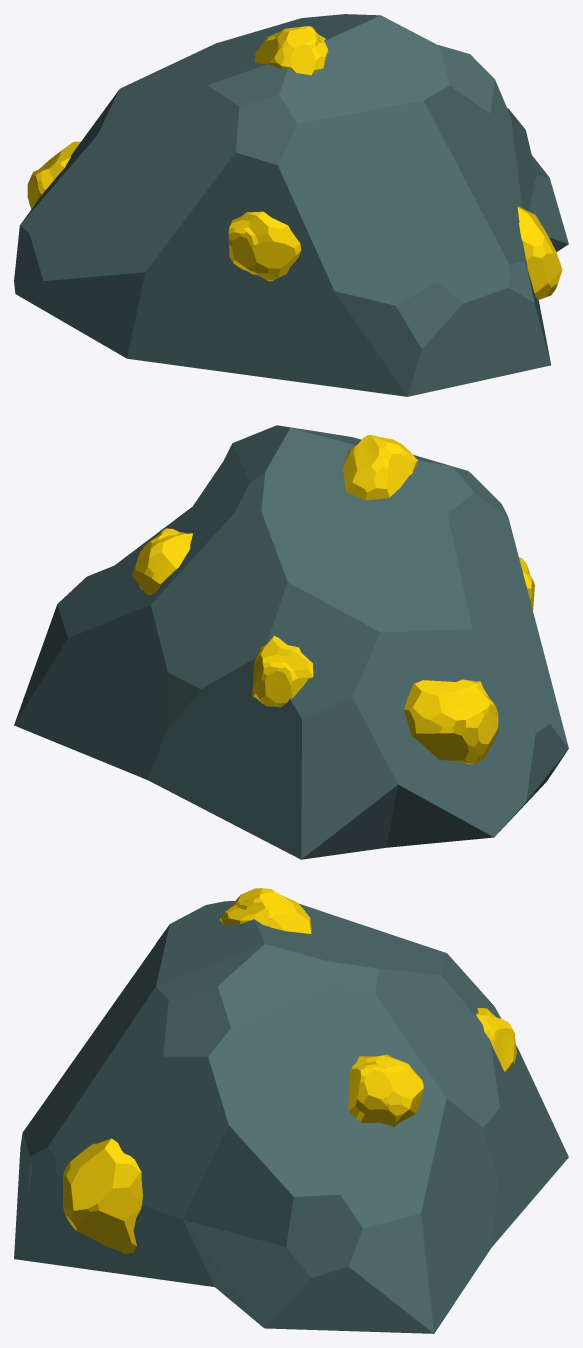
File: Gold4.fbx
3 renders of one model, top to bottom at view 1: azimuth 30°, elevation 25°; view 2: azimuth 150°, elevation 25°; view 3: azimuth 270°, elevation 25°, orthographic. The views are drawn at different scales.
Visible parts, largest first — view 1: Rock3, Nodes.003; view 2: Rock3, Nodes.003; view 3: Rock3, Nodes.003.
Boxes of the visible parts, bbox=[...] form: Rock3: bbox=[14, 14, 568, 396]; Nodes.003: bbox=[27, 26, 562, 299]; Rock3: bbox=[14, 425, 568, 859]; Nodes.003: bbox=[132, 435, 534, 764]; Rock3: bbox=[14, 901, 568, 1333]; Nodes.003: bbox=[63, 888, 516, 1253].
Size of the model in its own units: 188 by 112 by 174.
